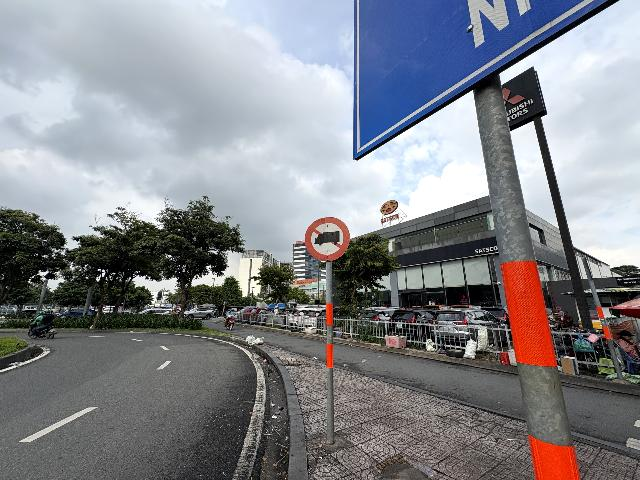cam-xe-tai: (305, 217, 350, 261)
